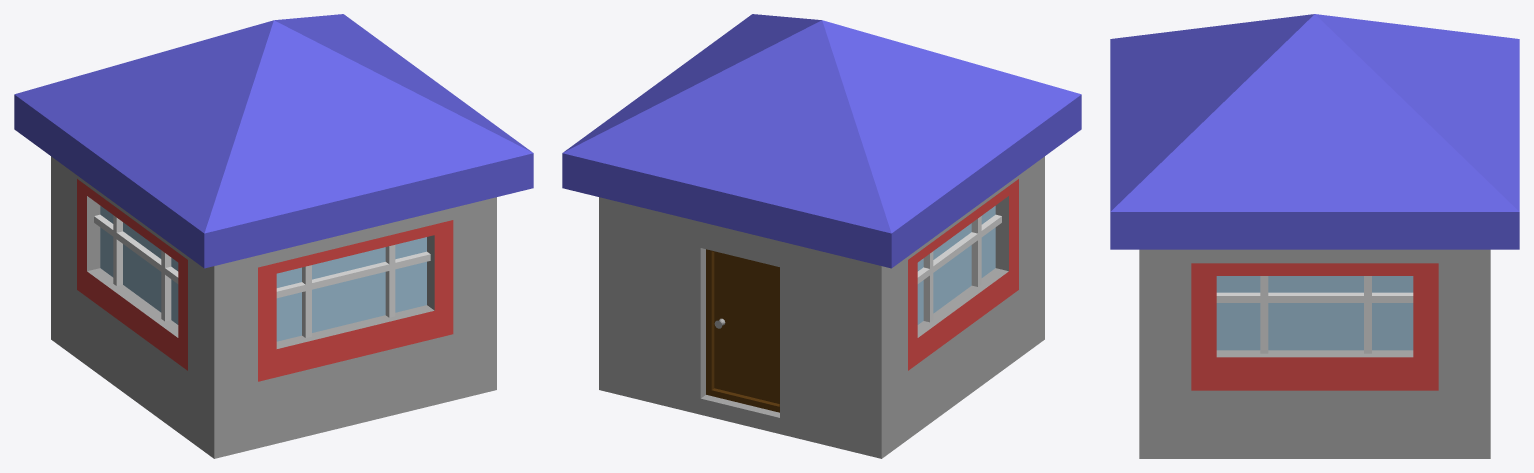
File: ЖД вокзал будка.fbx
3 views of the same model, side by side, from view 1: azimuth 30°, elevation 25°; view 2: azimuth 150°, elevation 25°; view 3: azimuth 270°, elevation 25° (orthographic). The views are drawn at different scales.
Visible parts, largest first — view 1: Cube.087; view 2: Cube.087; view 3: Cube.087.
Part boxes in pixels (x1,y1,x2,y2): Cube.087: (14,14,533,458); Cube.087: (562,14,1081,458); Cube.087: (1110,14,1519,458).
Bounding box in the file's own units: 1140 × 1139 × 1140.
